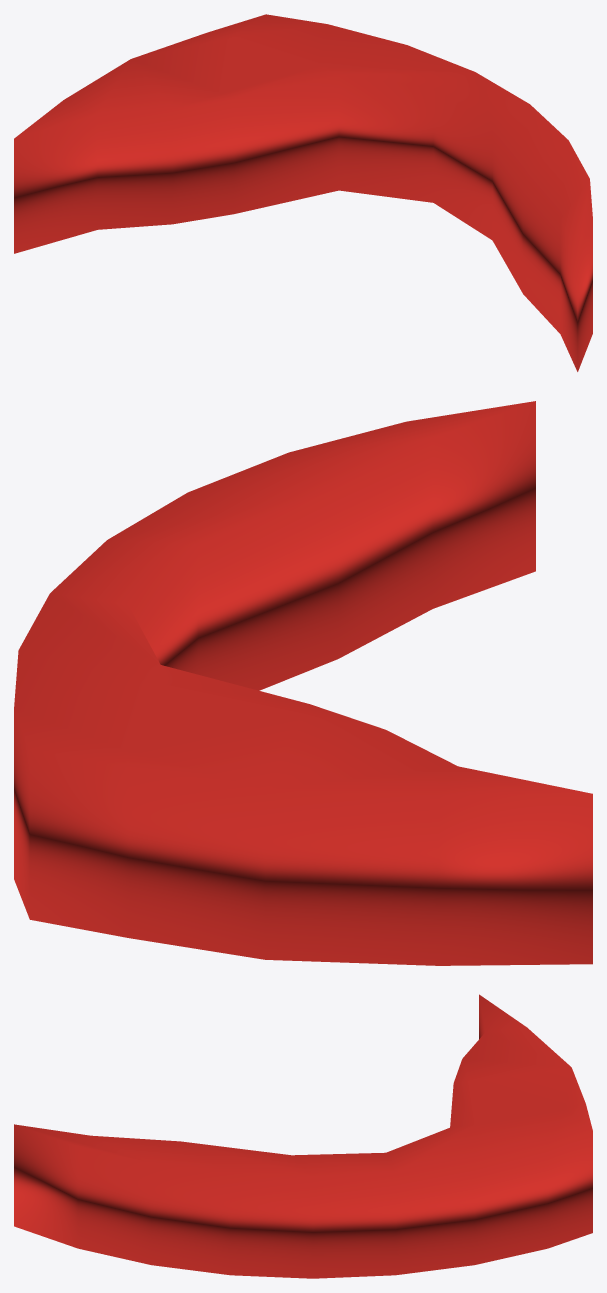
Rendered from circle_puzzle_piece_6.glb.
3 renders of one model, top to bottom at view 1: azimuth 30°, elevation 25°; view 2: azimuth 150°, elevation 25°; view 3: azimuth 270°, elevation 25°, orthographic. The views are drawn at different scales.
Visible parts, largest first — view 1: circle_puzzle.006; view 2: circle_puzzle.006; view 3: circle_puzzle.006.
Boxes of the visible parts, x1=… form: circle_puzzle.006: x1=14, y1=14, x2=592, y2=371; circle_puzzle.006: x1=14, y1=401, x2=592, y2=965; circle_puzzle.006: x1=14, y1=994, x2=592, y2=1278.
Bounding box in the file's own units: 2.1 × 0.5465 × 2.81.
